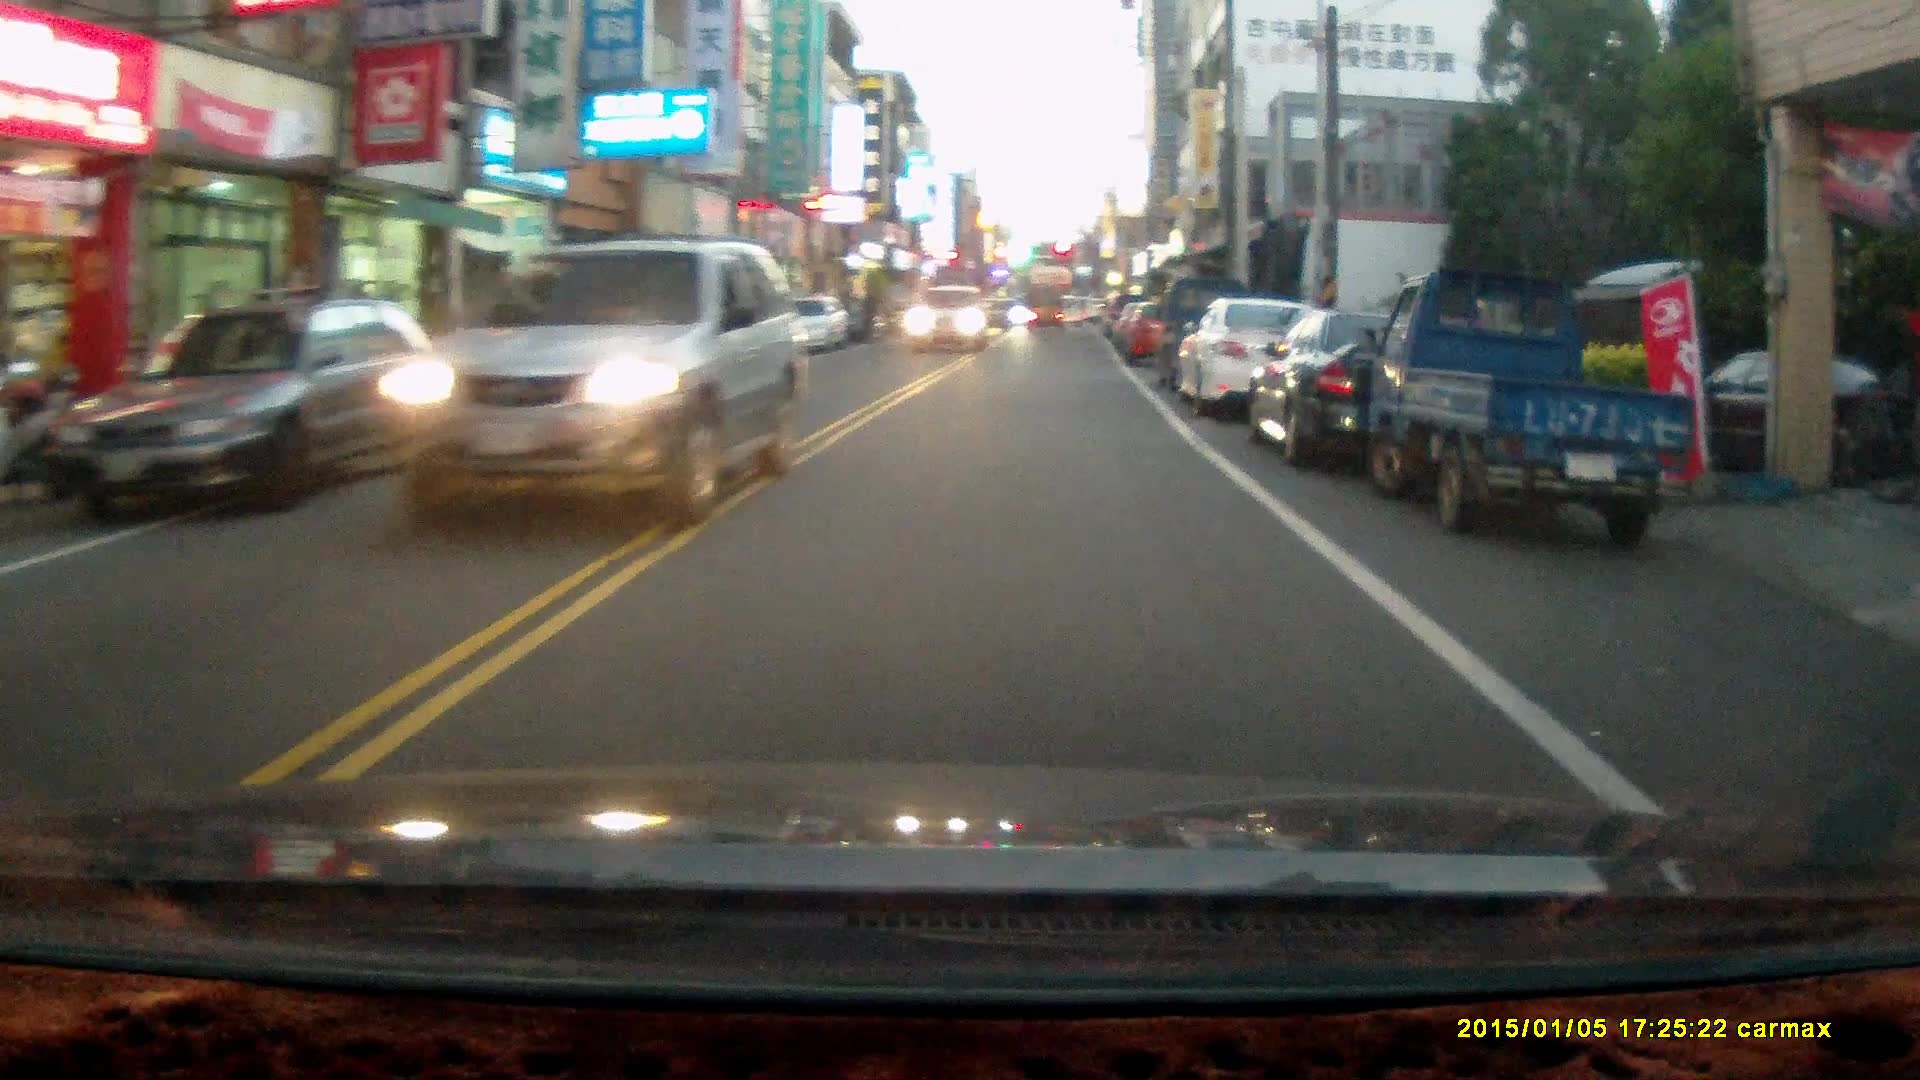vehicle: (369, 233, 820, 527), (1366, 272, 1706, 554), (61, 289, 462, 518), (1251, 309, 1516, 473), (1170, 301, 1338, 419), (907, 286, 992, 359), (1022, 289, 1065, 338)
